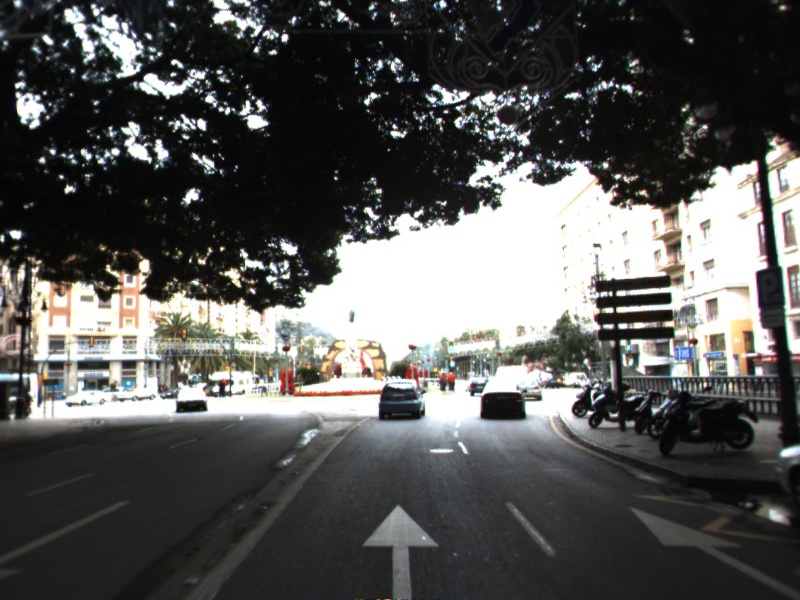STRAIGHT: (626, 502, 800, 600), (359, 501, 442, 600)
